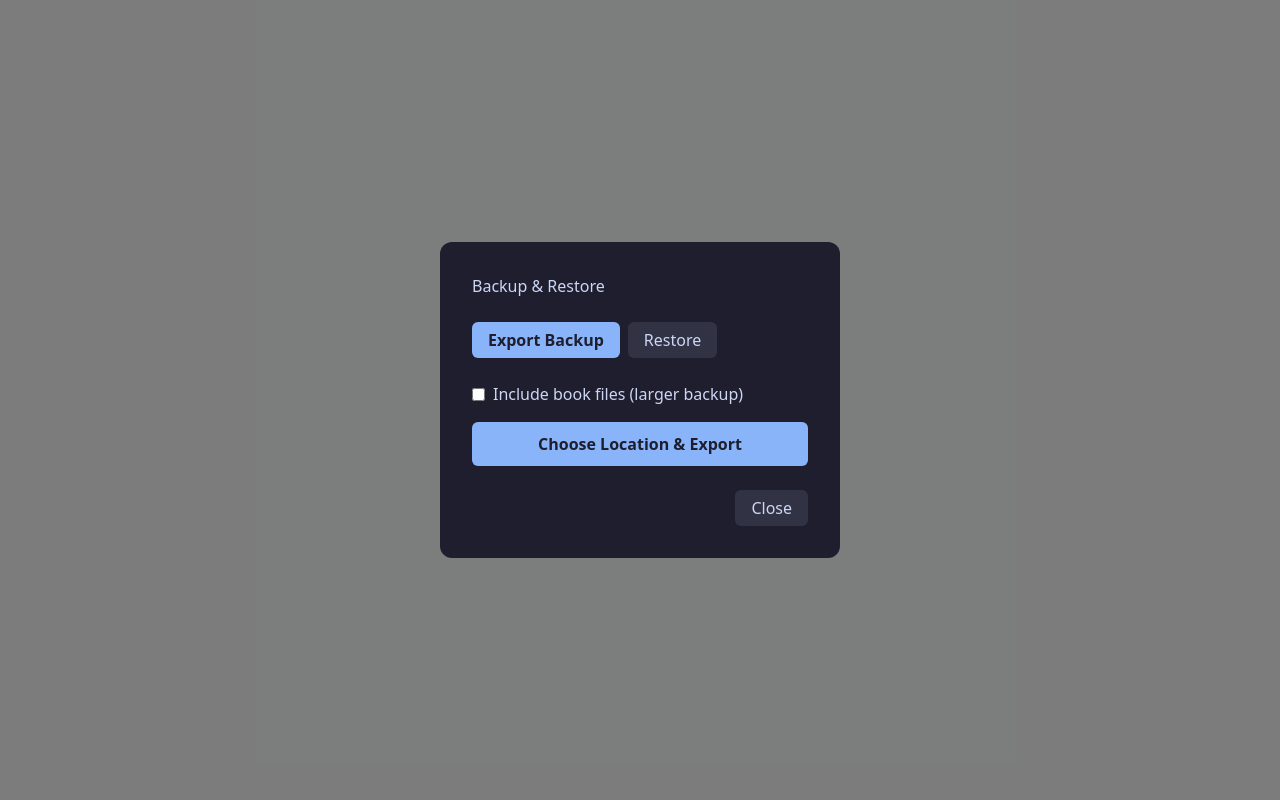
BackupRestoreDialog › shows restore button in restore tab
Click the button with test id "restore-tab" at {"x": 672, "y": 340}, box top-left (628, 322), bottom-right (717, 358)
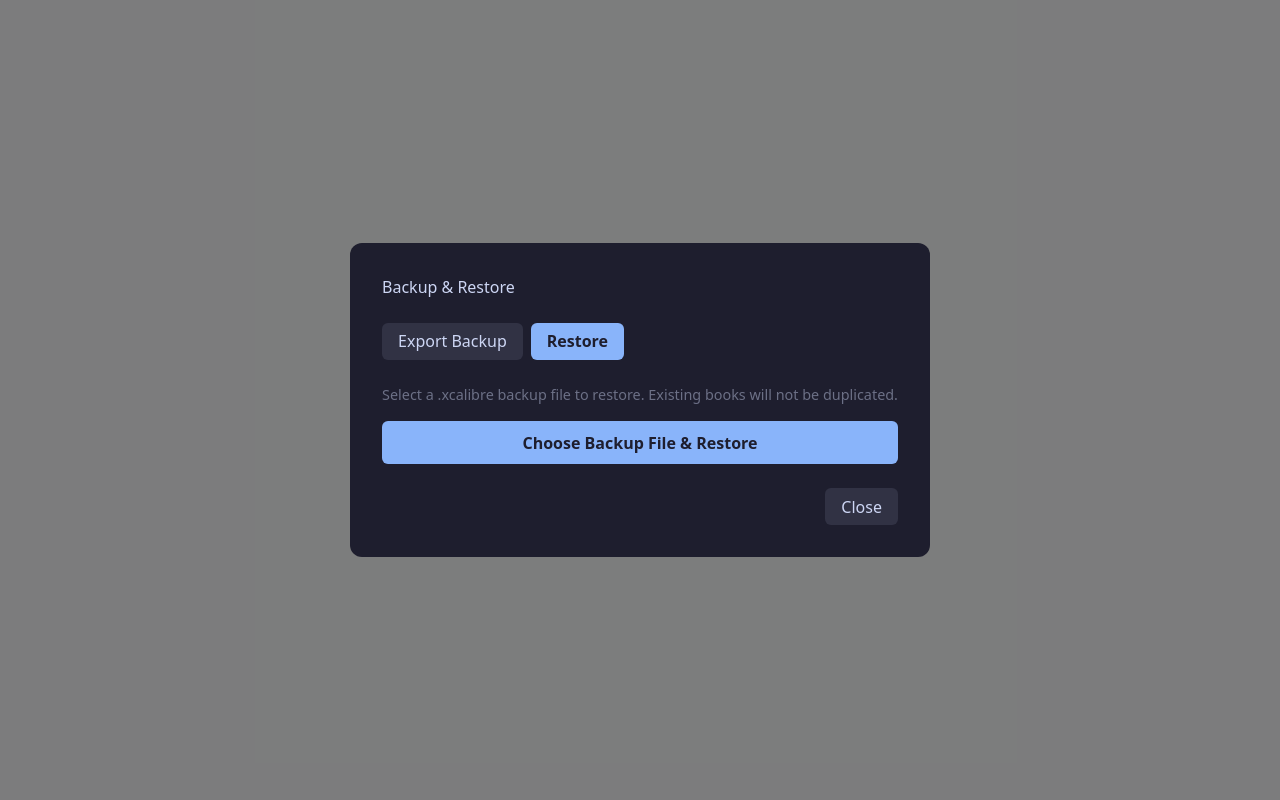
Result: the button with test id "restore-backup-btn" is shown at top-left (382, 421), bottom-right (898, 464)
